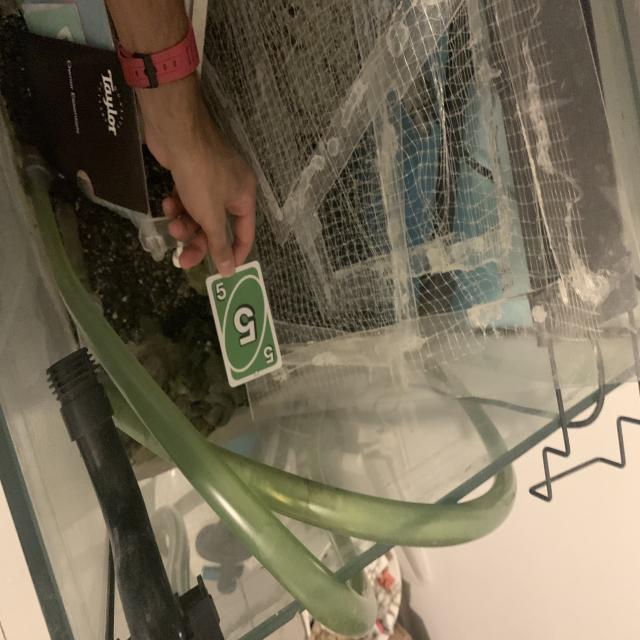lgreen-5: (212, 280, 232, 304)
